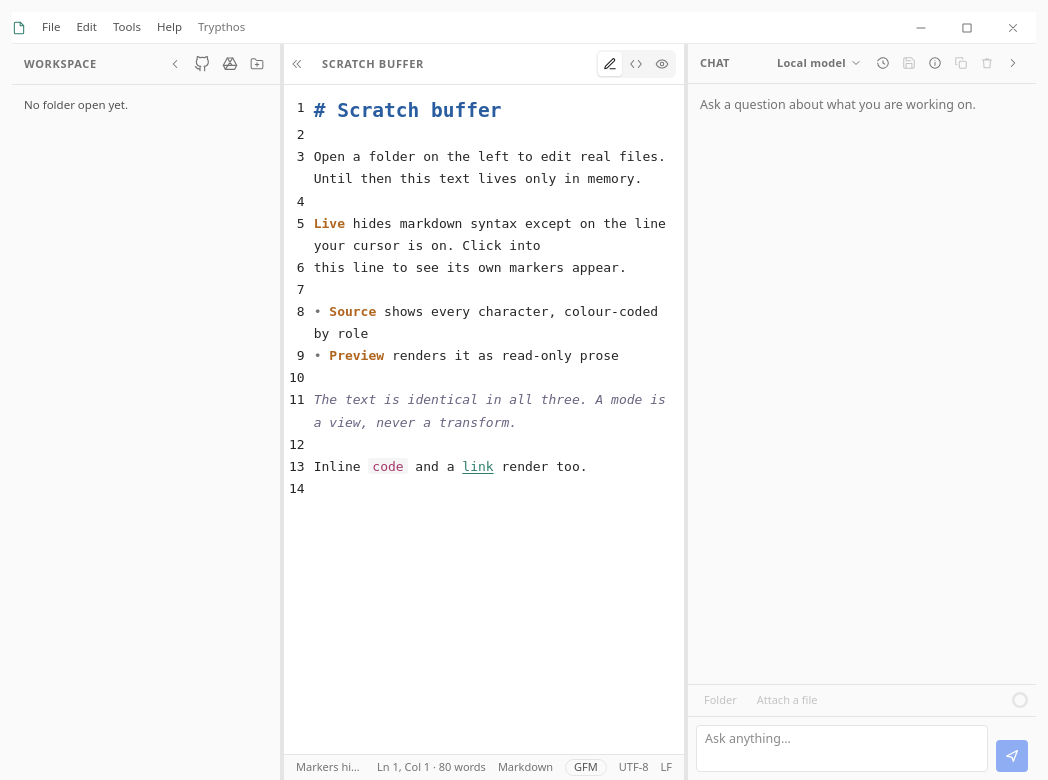
slash commands › answers /help with the list of commands
Step 1. Type "/help" into the text box named "Message" → (842, 748), box [696, 724, 988, 772]
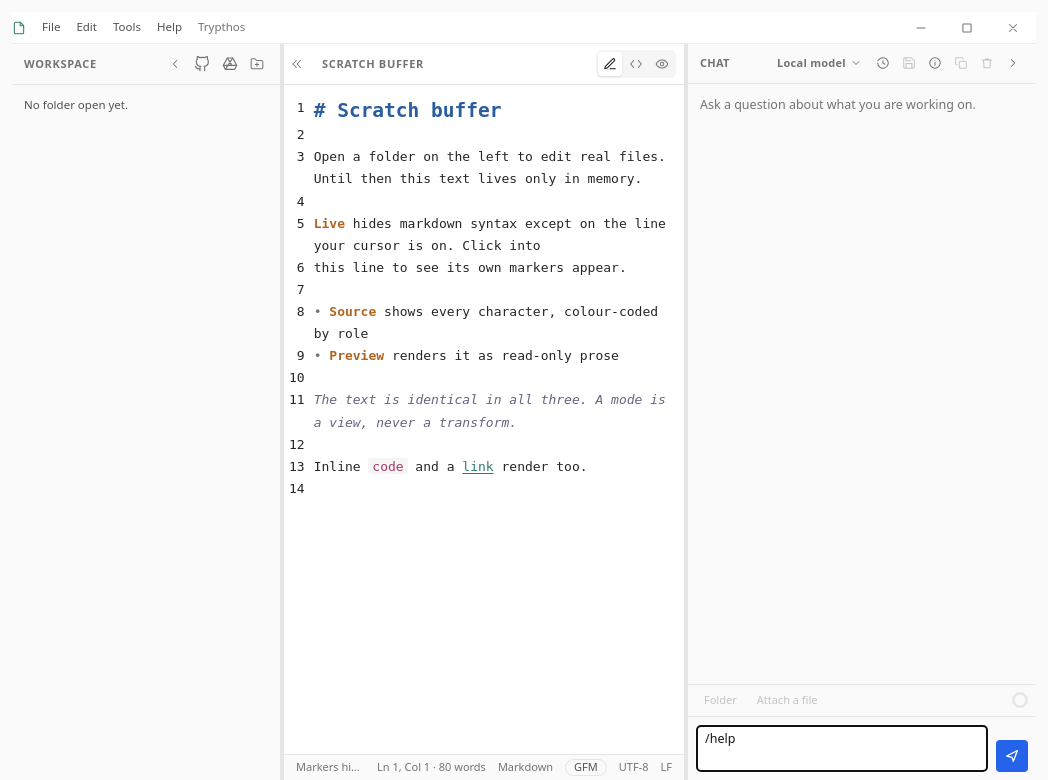
Step 2. Click the button named "Send" → click(1012, 756), box [996, 740, 1028, 772]
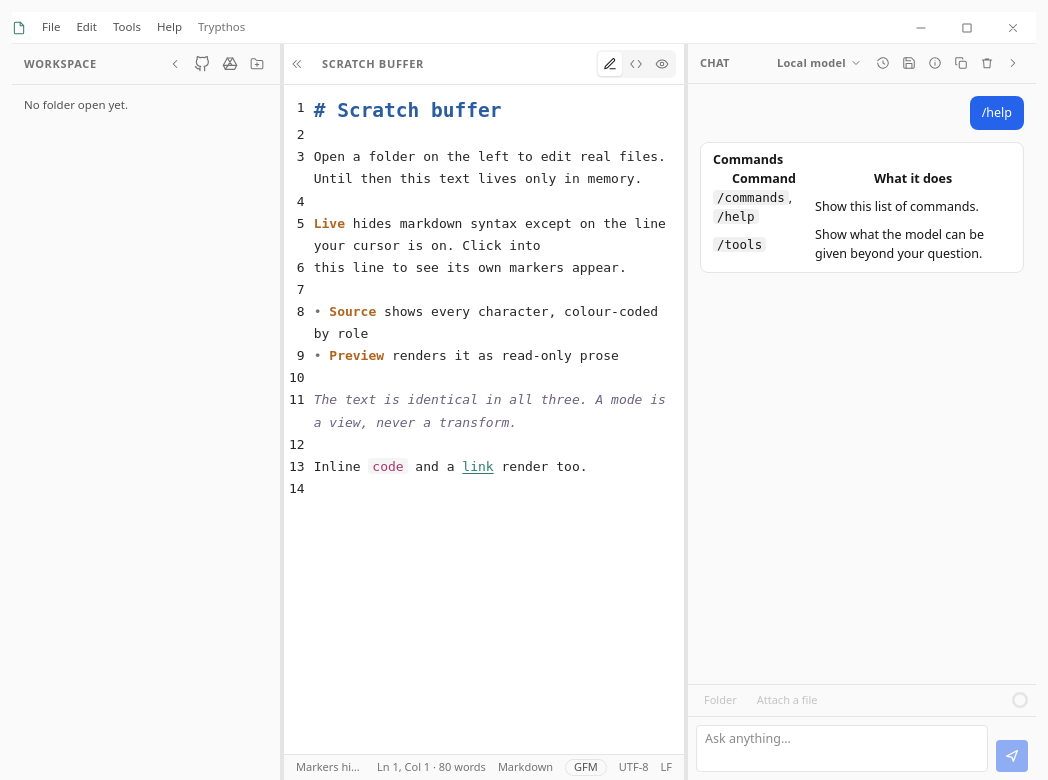
Expected: the text "Commands" is shown, [713, 151, 783, 168]
Expected: the text "/tools" is shown, [713, 237, 766, 252]
